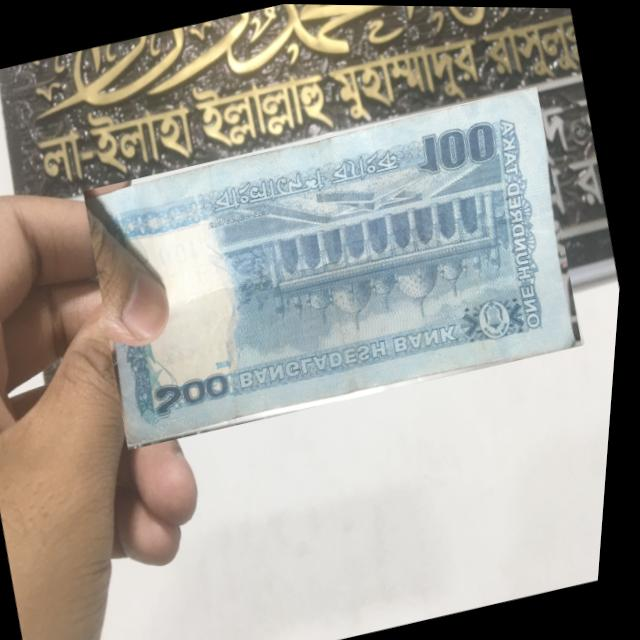Taka: (70, 79, 602, 454)
